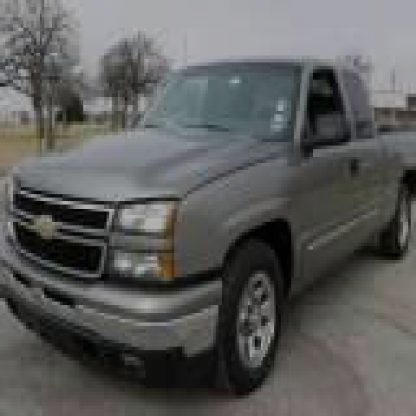Vehicle: (2, 56, 414, 402)
